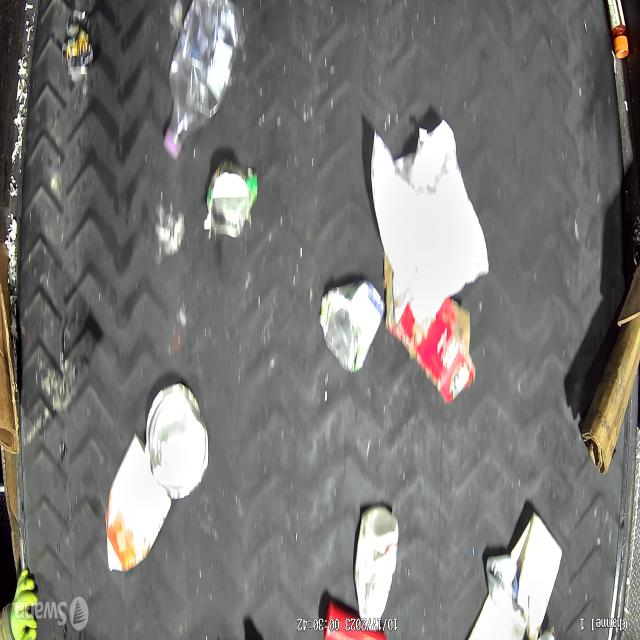can: (146, 384, 209, 498), (320, 277, 383, 374), (206, 160, 251, 240), (66, 8, 90, 84)
non_white_jug: (354, 507, 399, 632)
plastic_bottle: (164, 2, 242, 164)
